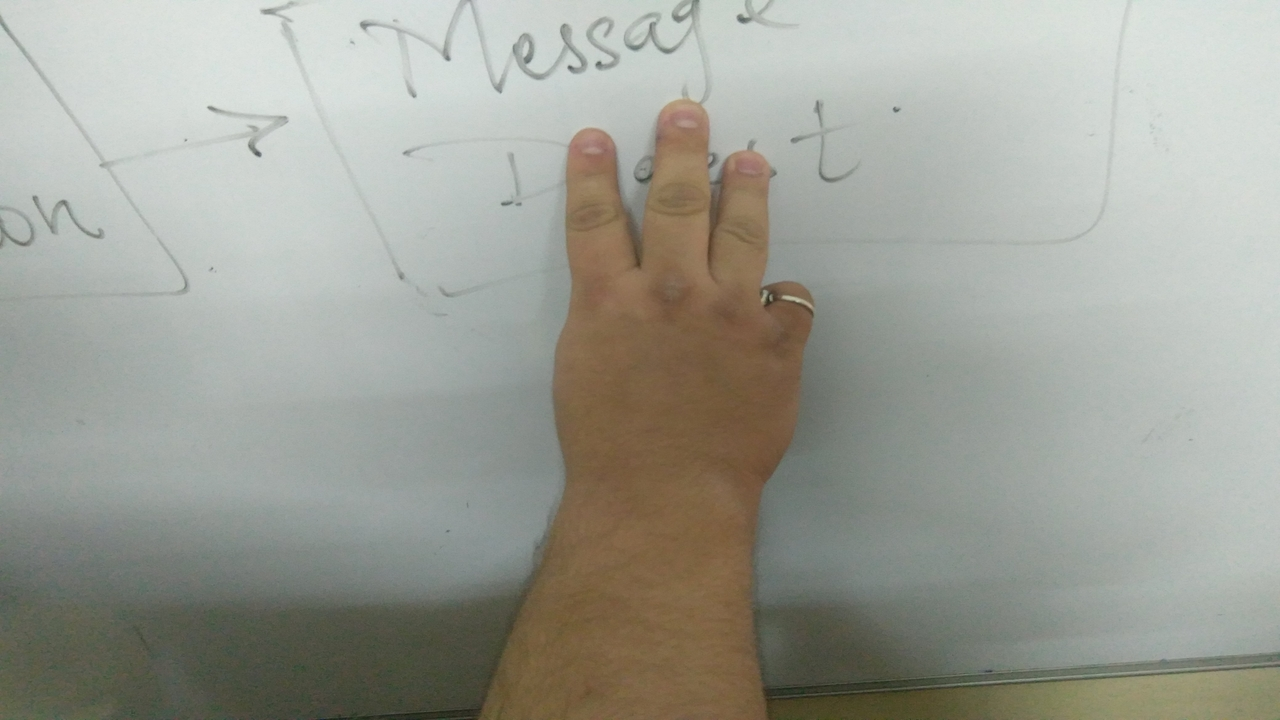fingertip: (644, 94, 712, 144), (560, 126, 620, 172), (725, 142, 775, 189)
